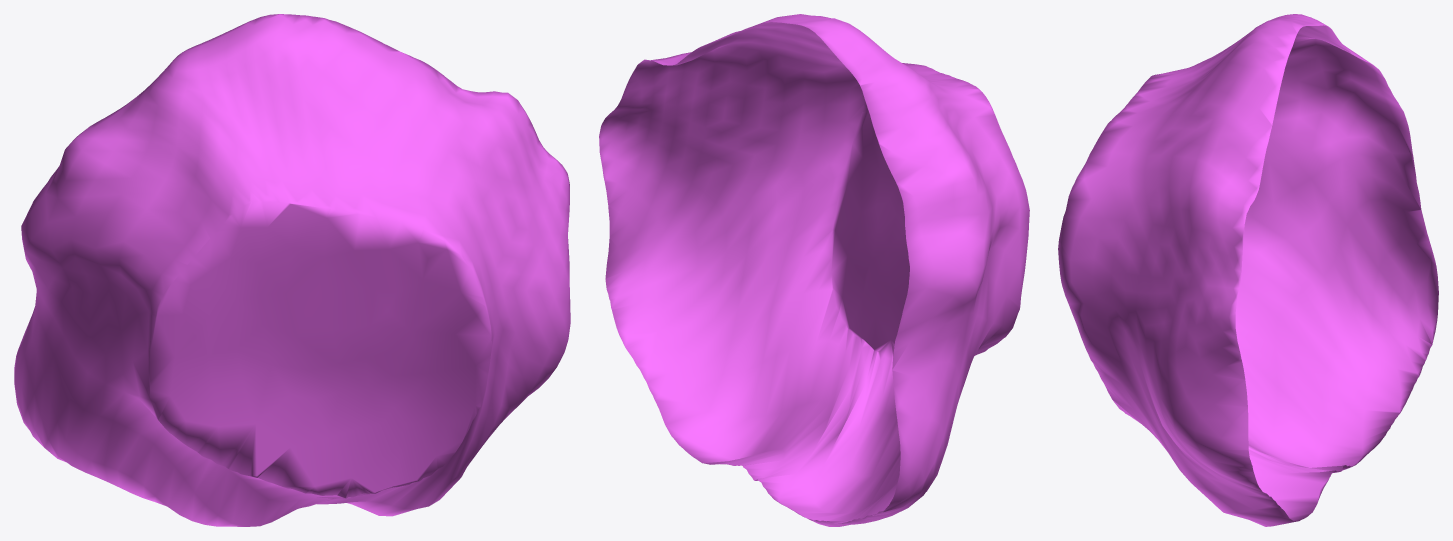
File: Caries_5_OC.glb
The picture shows the model from 3 angles, left to right: view 1: azimuth 30°, elevation 25°; view 2: azimuth 150°, elevation 25°; view 3: azimuth 270°, elevation 25°; orthographic projection. The views are drawn at different scales.
Parts seen in each view (by area): view 1: D5 a..001; view 2: D5 a..001; view 3: D5 a..001.
Part boxes in pixels (x1=…): D5 a..001: x1=14, y1=14, x2=570, y2=526; D5 a..001: x1=599, y1=14, x2=1029, y2=526; D5 a..001: x1=1058, y1=14, x2=1438, y2=526.
Bounding box in the file's own units: 2.23 × 2.28 × 1.74.
